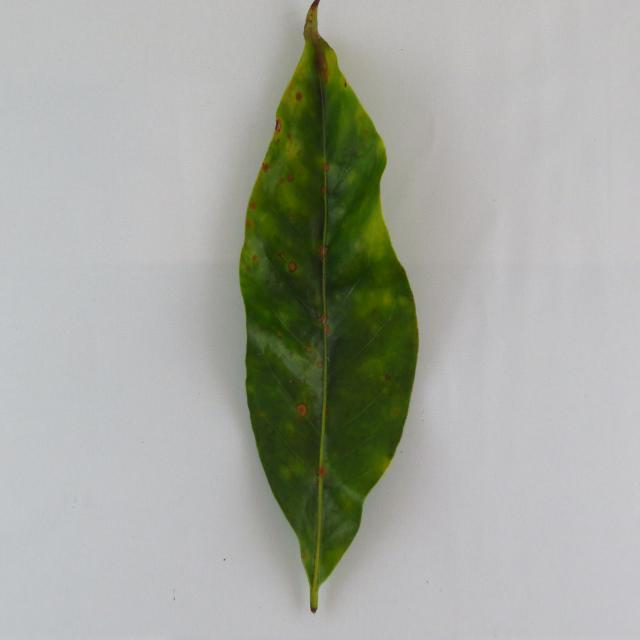DeficienciaNutricional-Potasio: (240, 0, 419, 612)
